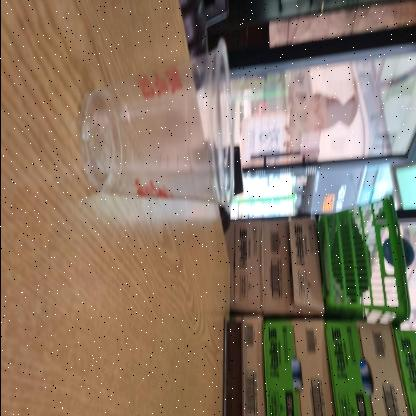Others: (76, 34, 238, 226)
